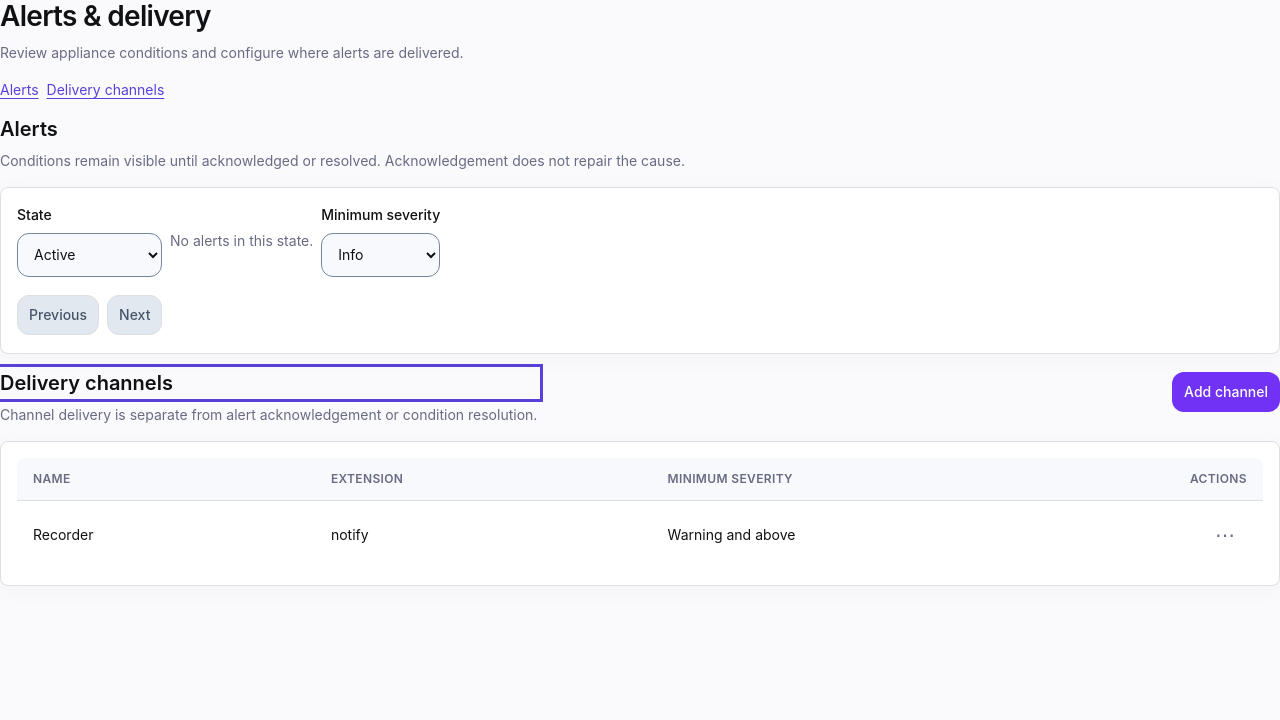
Test case: one combined heading, real delivery test failure is not success
The image size is (1280, 720).
Expected: the text "Recorder" is shown, [17, 501, 315, 569]
Click the button named "Actions for Recorder" at [1225, 535], box [1203, 513, 1247, 557]
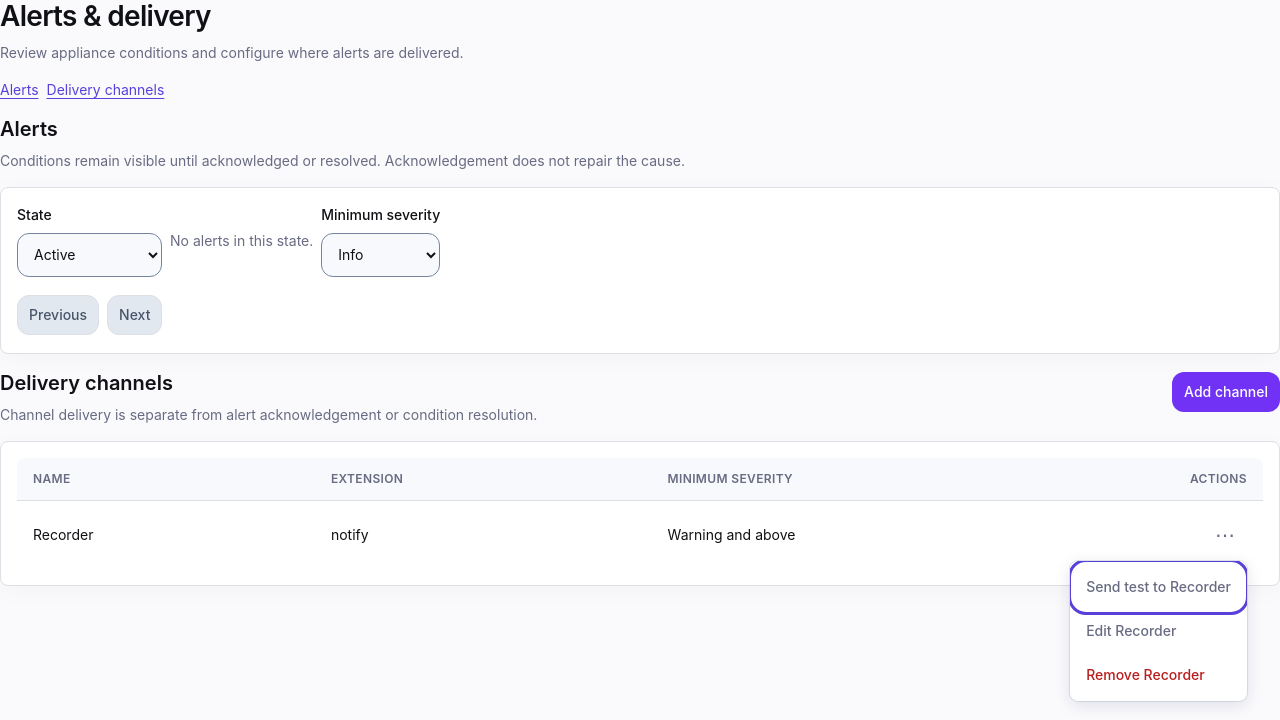
Click the button "Send test to Recorder" at [1159, 587], box [1074, 565, 1243, 609]
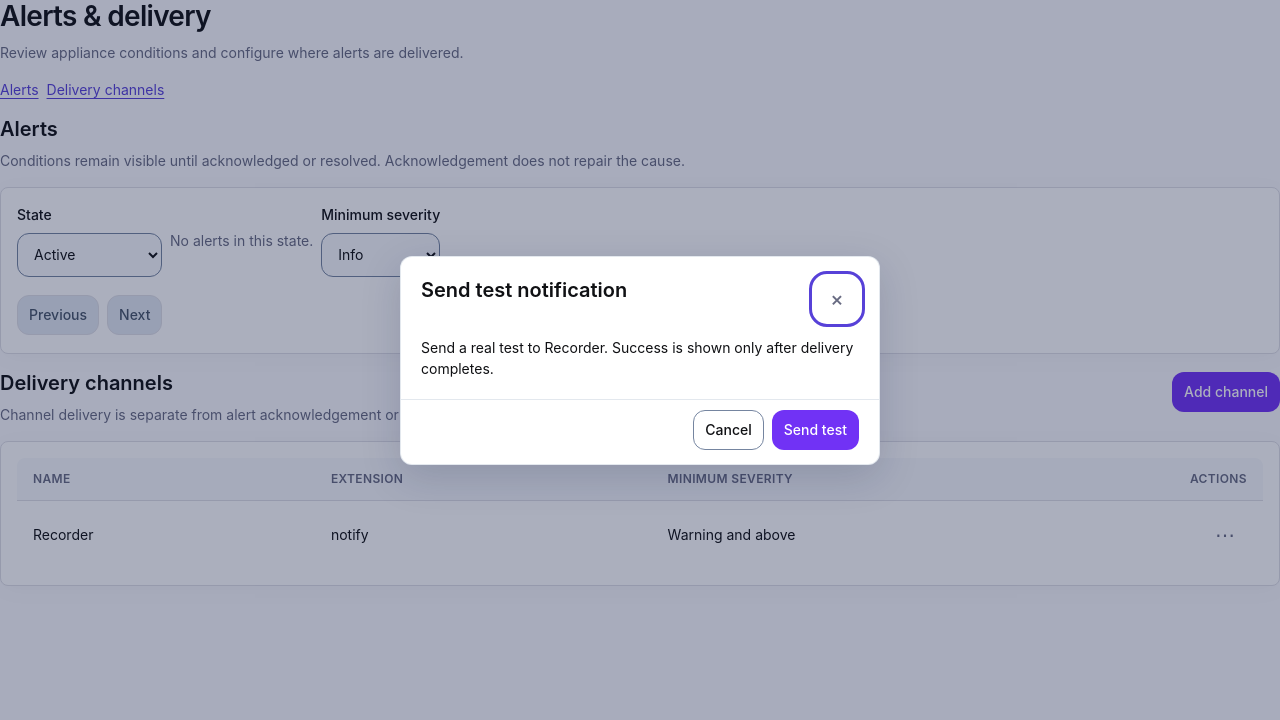
Click the button "Send test" at [815, 430], box [772, 408, 859, 452]
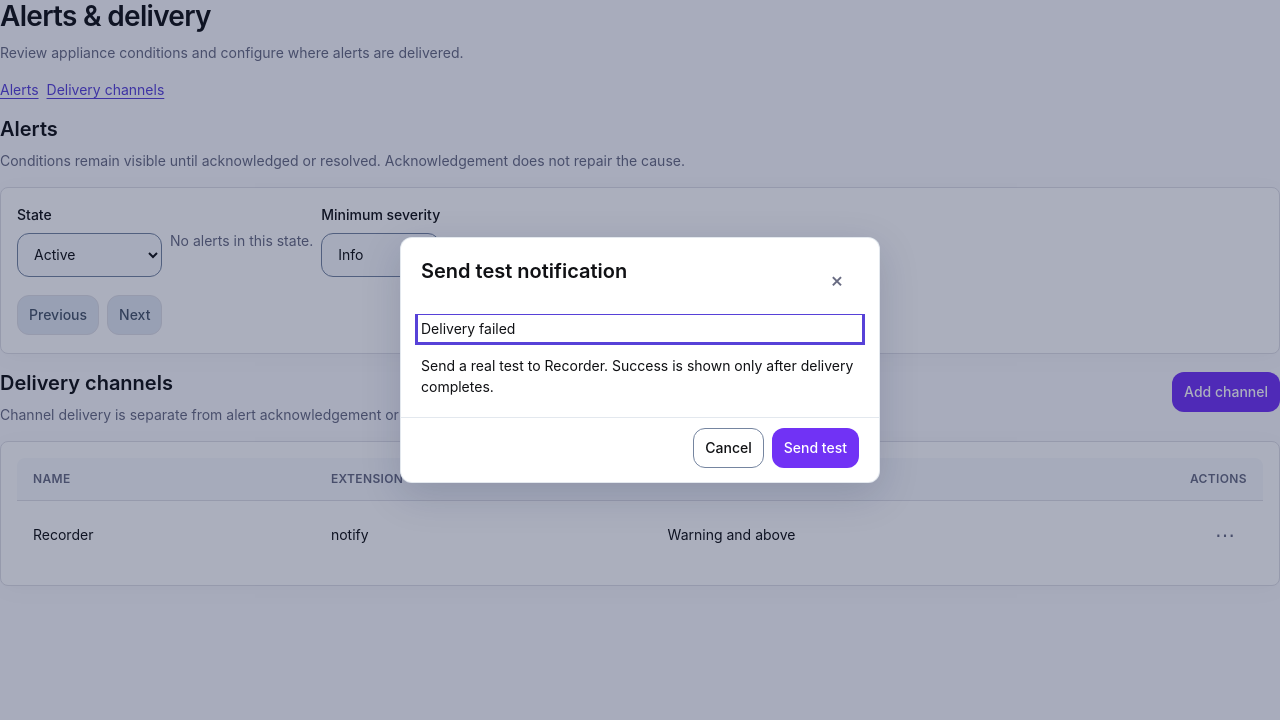
Expected: the message reads "Delivery failed", [421, 320, 516, 337]
